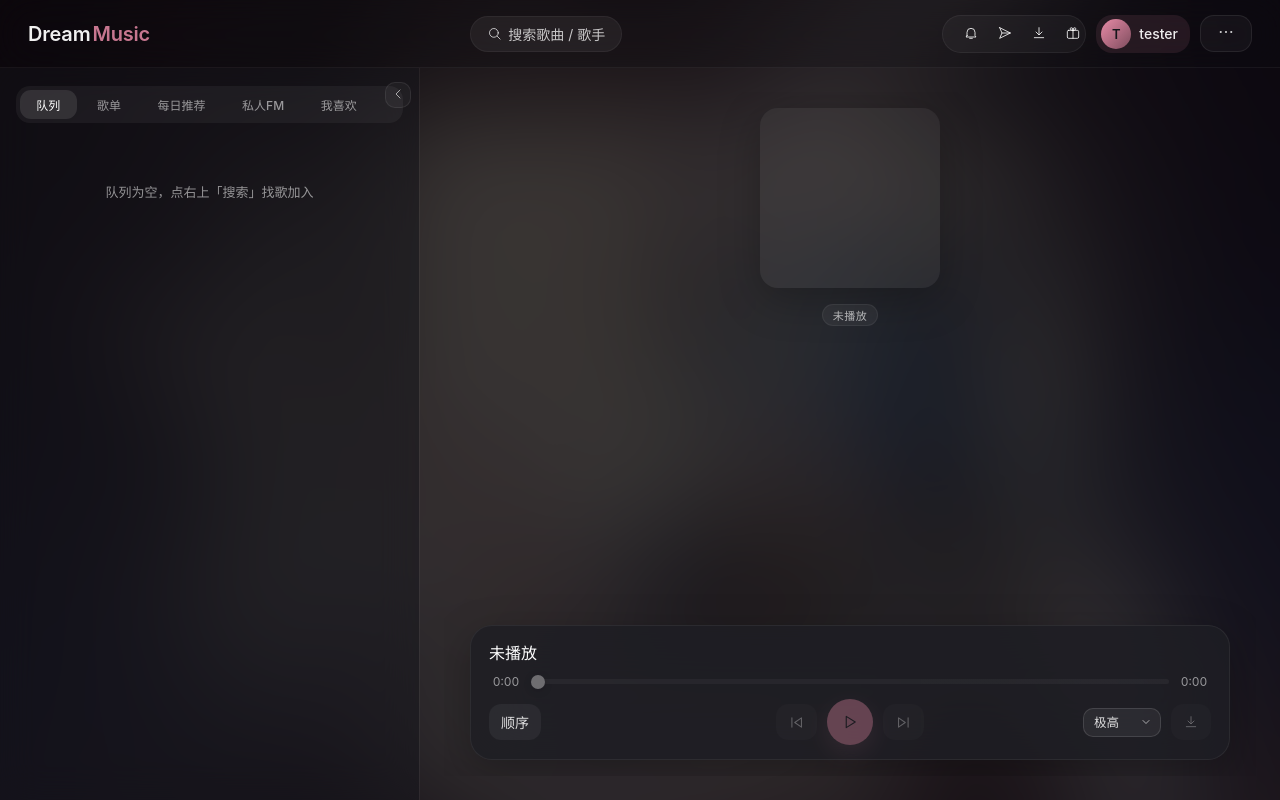
Test: Routing — DM-01 + D4 auth gate › opens the send message modal from the top actions
Expected: the header with test id "dm-topbar" is shown, [0, 0, 1279, 68]
Click the button named "发送消息": (997, 34) [981, 18, 1013, 50]
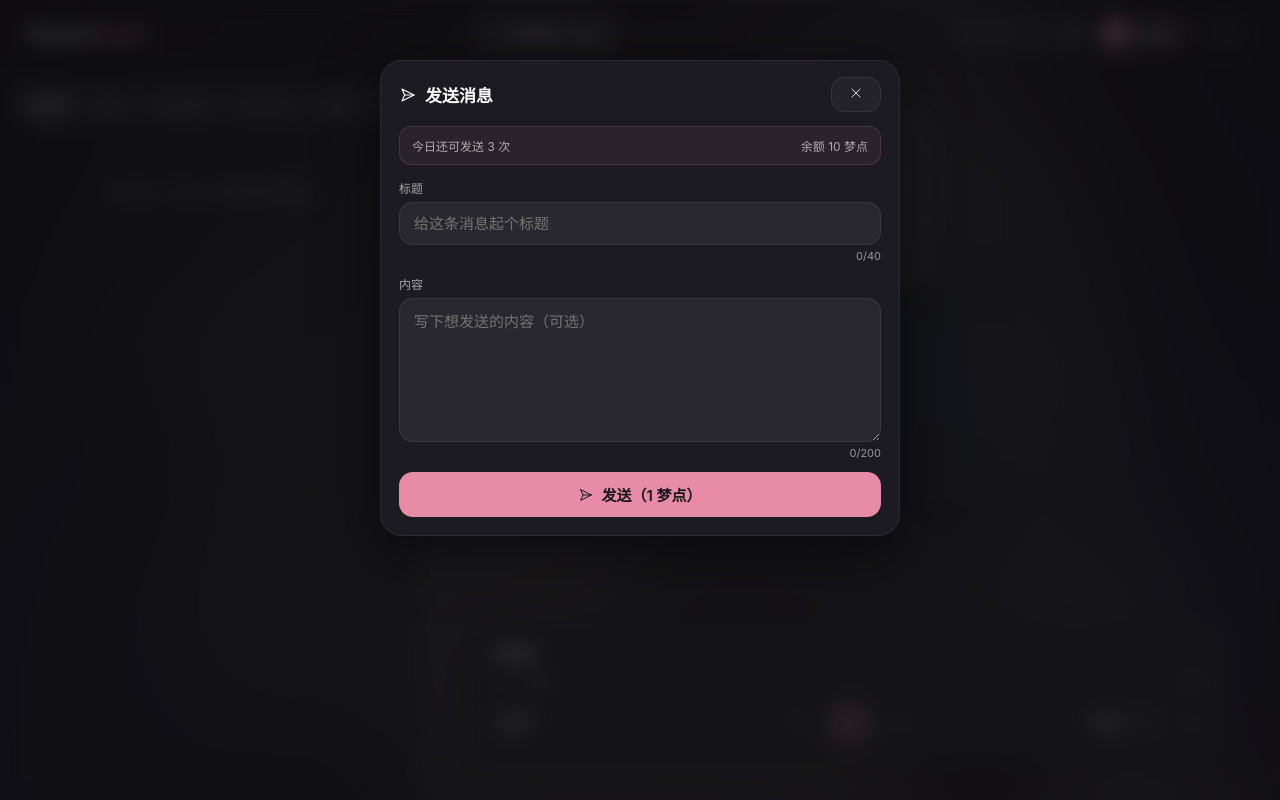
Now the dialog "发送消息" is shown
